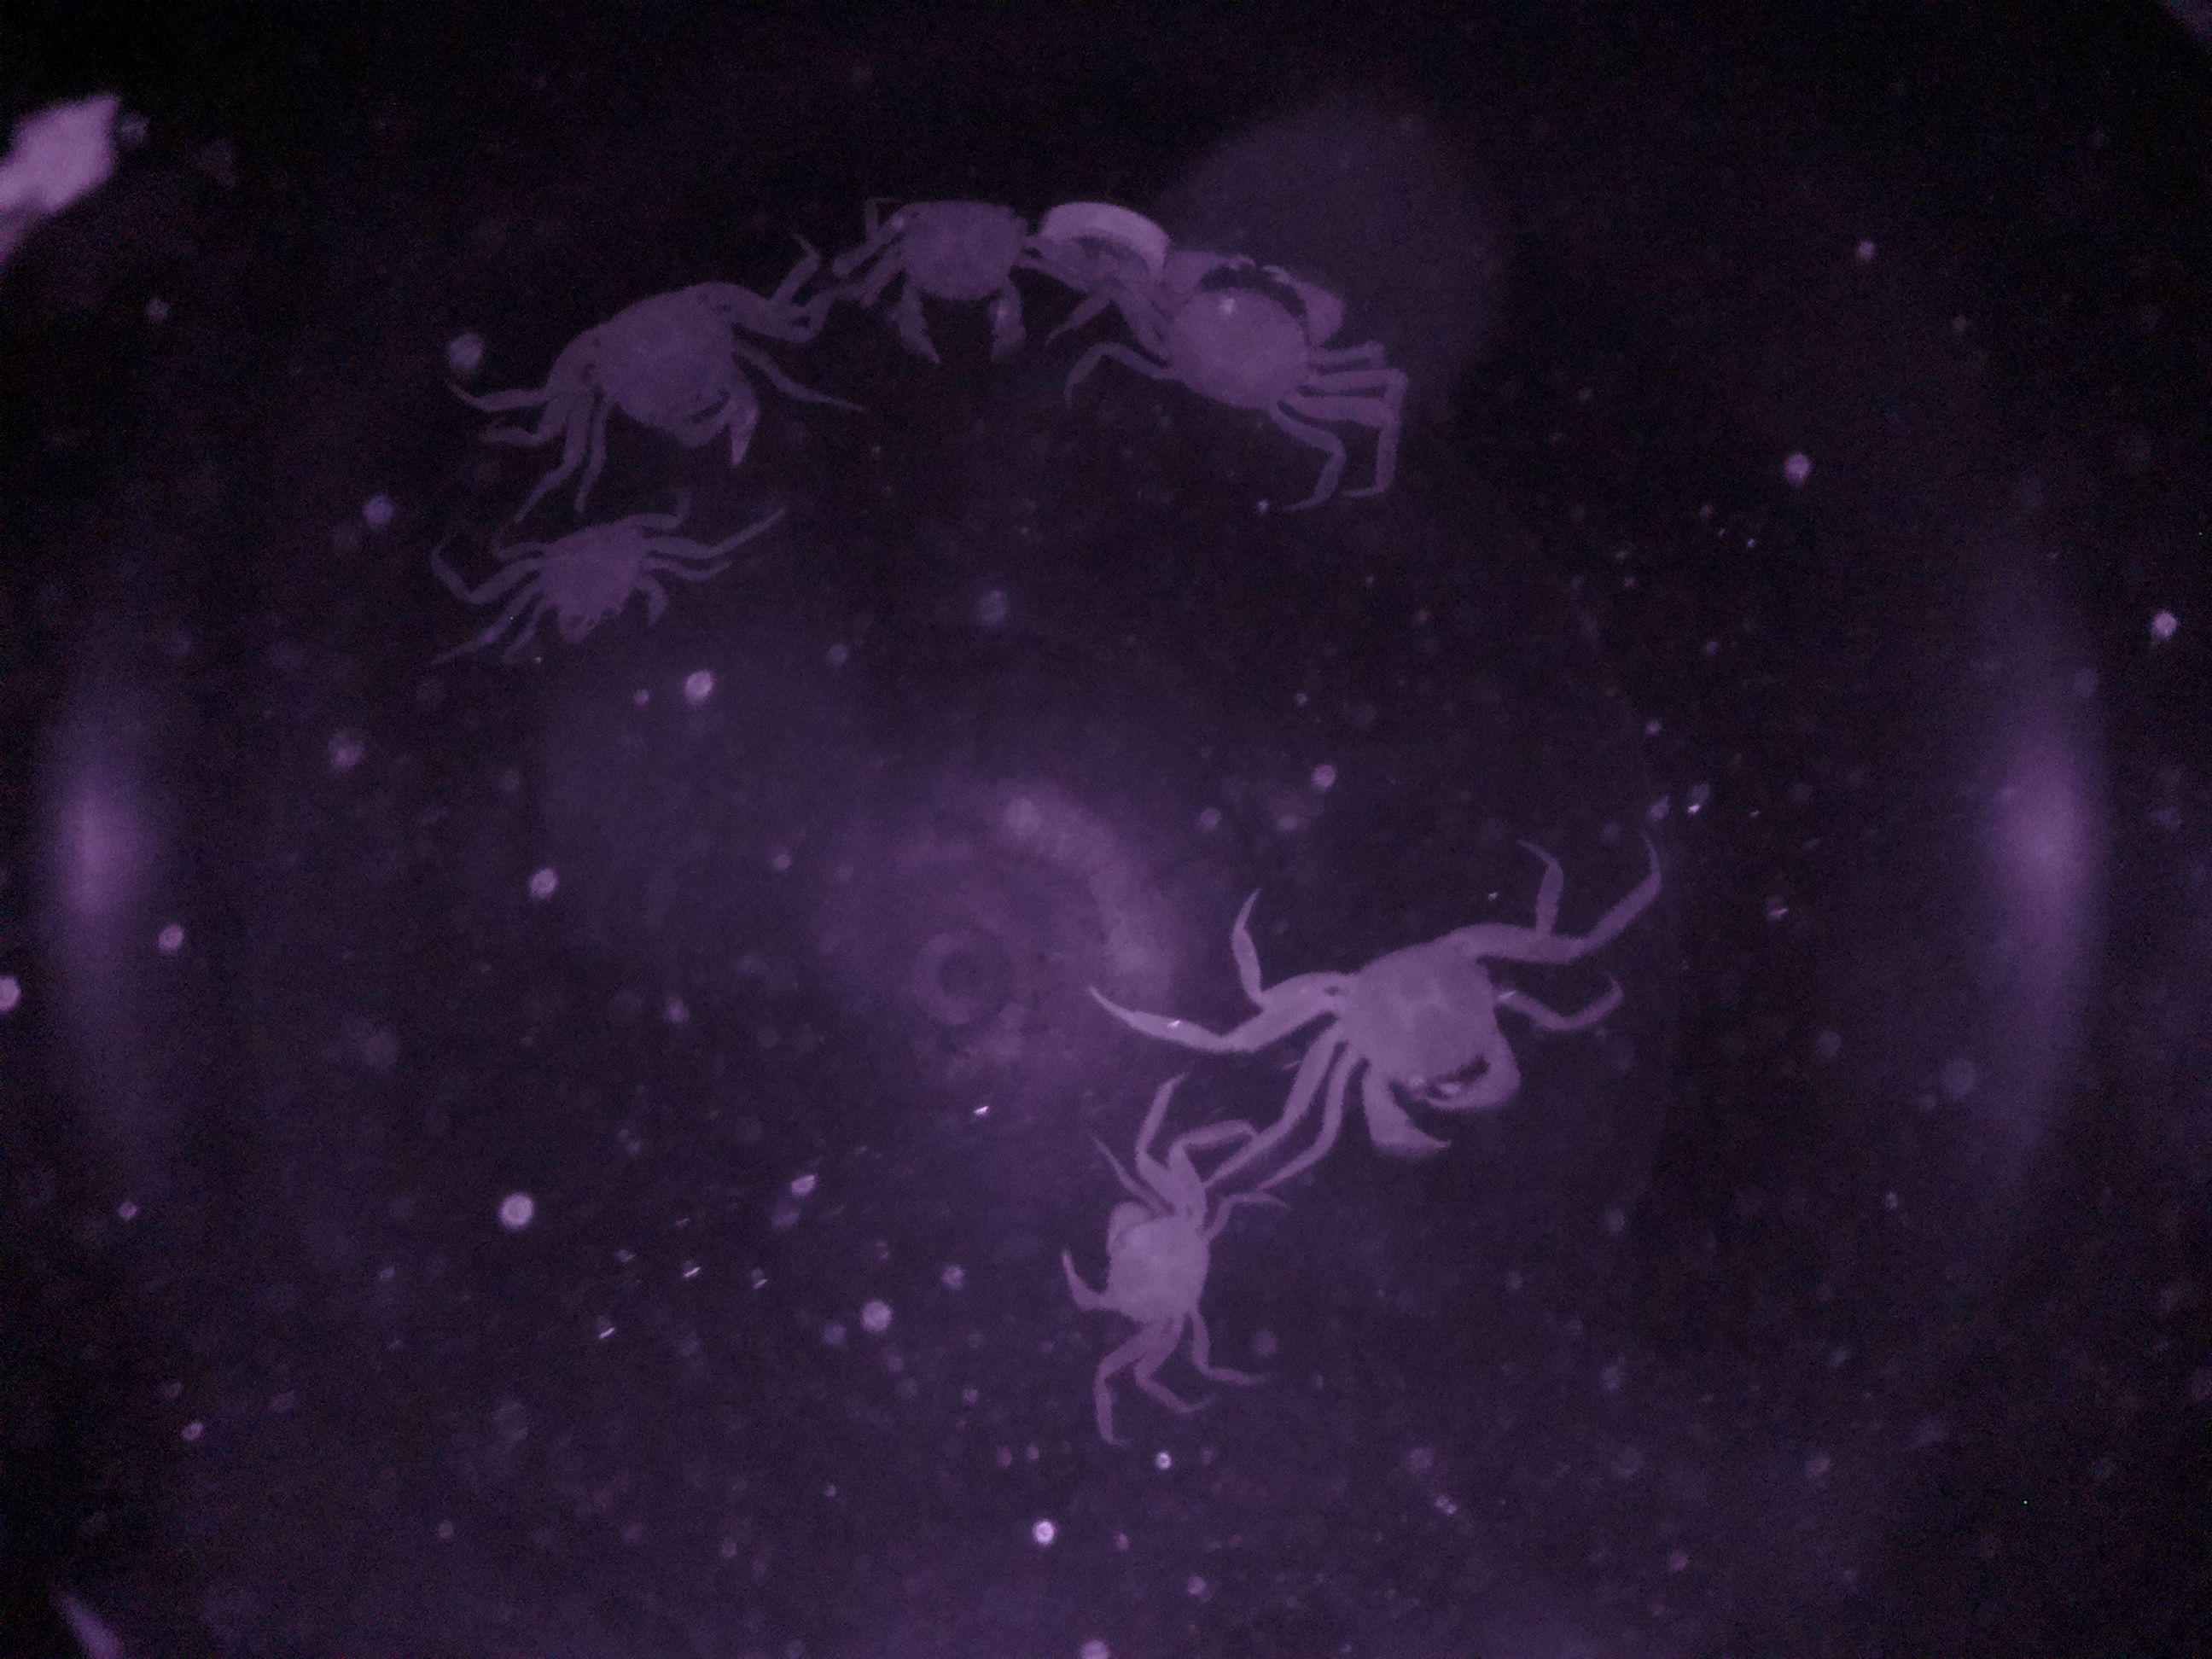Crab: (1254, 892, 1576, 1161), (1104, 225, 1372, 450), (549, 258, 801, 486), (850, 160, 1068, 387), (1052, 1161, 1249, 1378), (474, 509, 698, 648)
